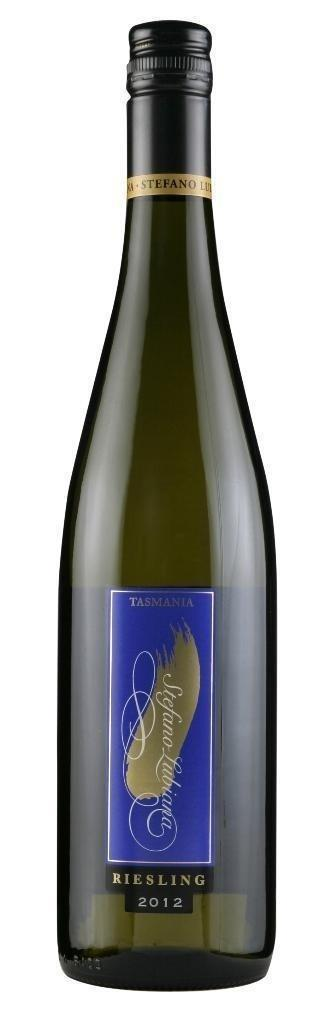bottle-glass: (45, 11, 286, 993)
